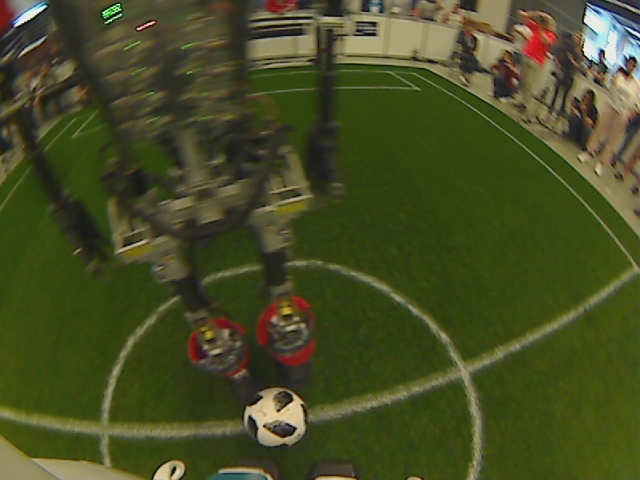ball: (242, 384, 306, 448)
robot: (222, 344, 328, 404)
